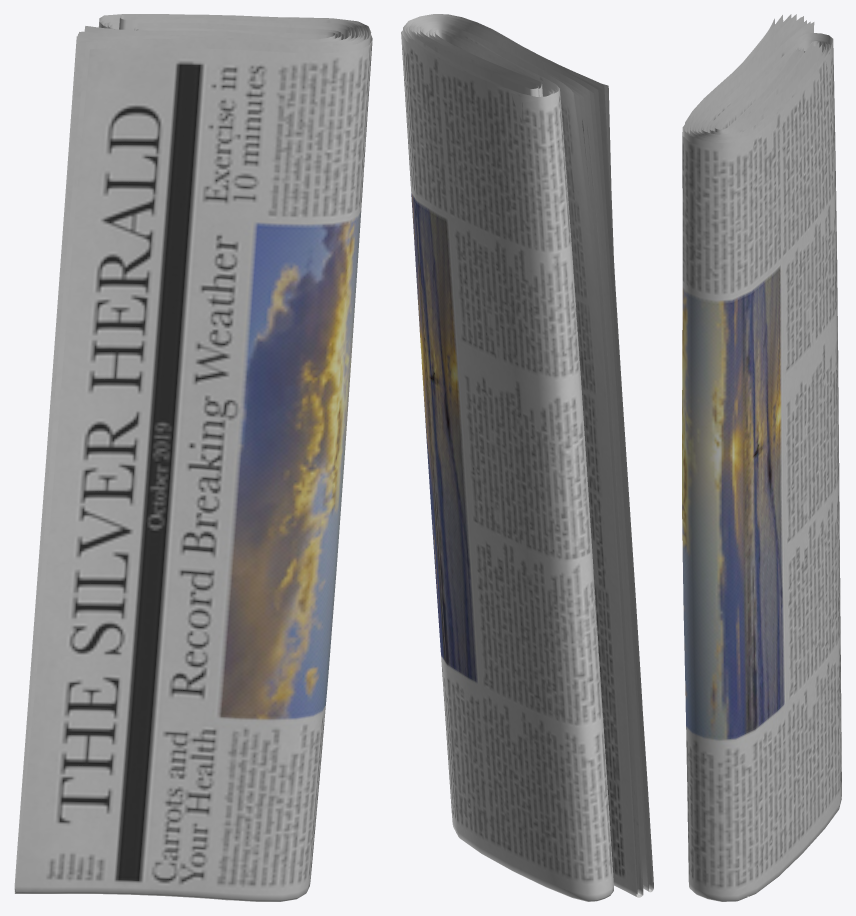
Rendered from newspaper_uncompressed.glb.
3 views of the same model, side by side, from view 1: azimuth 30°, elevation 25°; view 2: azimuth 150°, elevation 25°; view 3: azimuth 270°, elevation 25° (orthographic). The views are drawn at different scales.
Visible parts, largest first — view 1: Object_2; view 2: Object_2; view 3: Object_2.
Boxes of the visible parts, left/top/right/bottom form: Object_2: left=14, top=14, right=372, bottom=901; Object_2: left=401, top=14, right=653, bottom=901; Object_2: left=682, top=14, right=841, bottom=901.
Size of the model in its own units: 13.19 by 35.2 by 6.33.
Materials: 1 (1 with a texture image).
